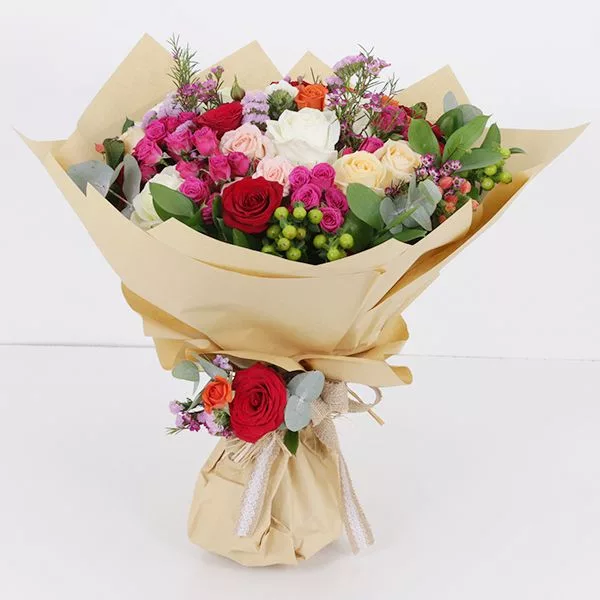Pink: (323, 186, 347, 211), (165, 131, 193, 152), (307, 167, 337, 186), (292, 189, 320, 208), (139, 139, 159, 163), (207, 155, 229, 175), (321, 211, 341, 229), (291, 167, 309, 184), (145, 121, 165, 136), (174, 161, 197, 174)
Red: (230, 364, 283, 437), (223, 181, 278, 231), (200, 105, 241, 132)
White: (267, 108, 336, 163), (137, 176, 182, 217), (265, 82, 298, 101)
Yellow: (336, 150, 380, 184), (388, 139, 418, 176), (117, 128, 143, 148), (313, 235, 326, 248)
